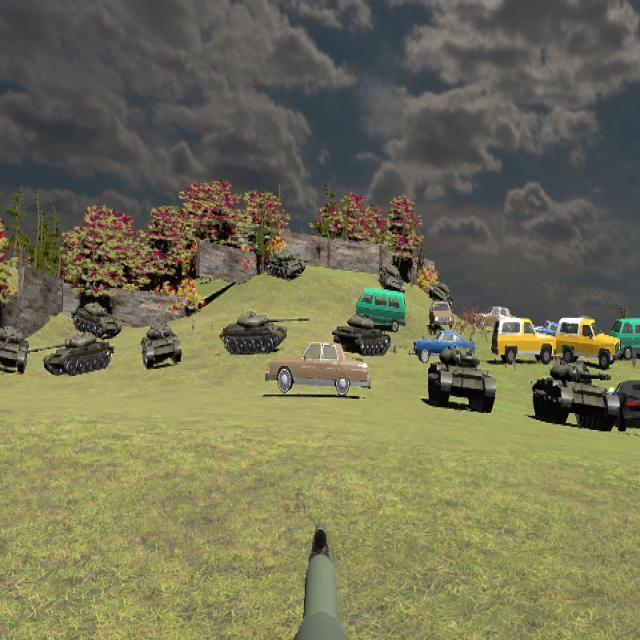Tank: (532, 357, 620, 432), (427, 344, 497, 414), (219, 310, 310, 356), (28, 332, 115, 377), (333, 314, 393, 357), (141, 319, 182, 369), (73, 302, 126, 338), (0, 325, 29, 374), (268, 249, 306, 280), (378, 263, 406, 295)
car: (265, 341, 371, 397), (555, 317, 620, 369), (491, 315, 555, 365), (356, 287, 406, 333), (414, 328, 476, 364), (616, 378, 640, 433), (611, 317, 640, 359), (473, 304, 516, 331), (429, 300, 454, 329)
